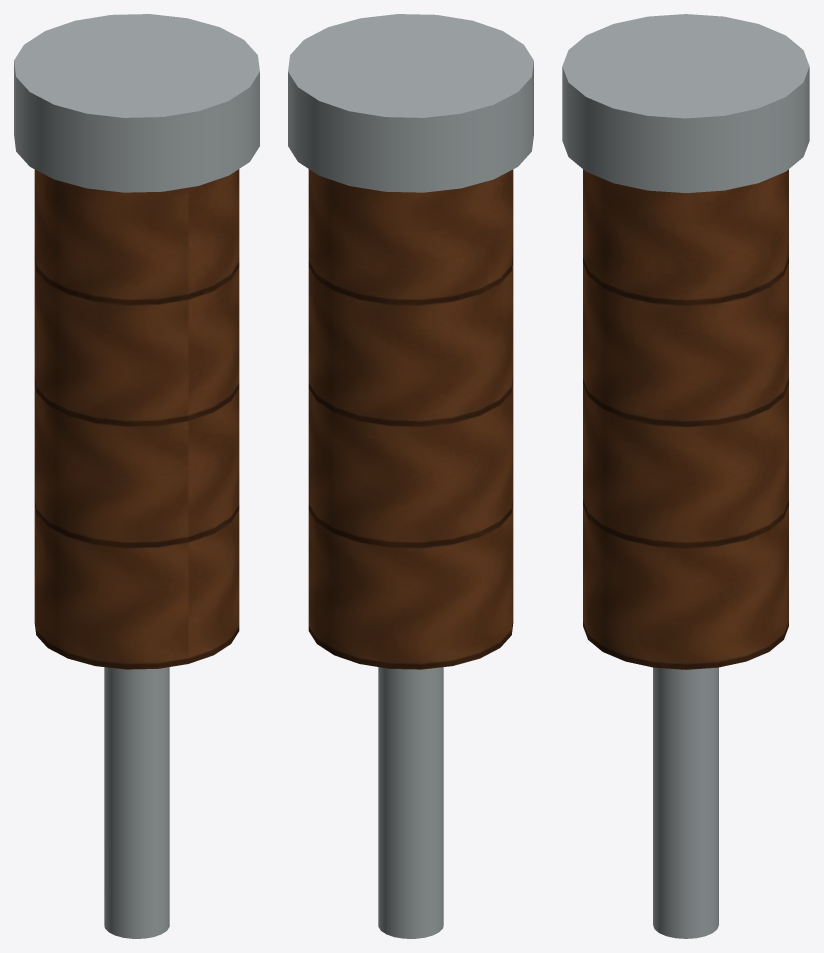
File: primitive-crafting-workshop-leather-punch-654d43c6__21562.glb
3 renders of one model, left to right at view 1: azimuth 30°, elevation 25°; view 2: azimuth 150°, elevation 25°; view 3: azimuth 270°, elevation 25°, orthographic.
Parts seen in each view (by area): view 1: leather-punch; view 2: leather-punch; view 3: leather-punch.
Boxes of the visible parts, left/top/right/bottom form: leather-punch: left=14, top=14, right=259, bottom=938; leather-punch: left=288, top=14, right=533, bottom=938; leather-punch: left=562, top=14, right=809, bottom=938.
Bounding box in the file's own units: 0.06 × 0.23 × 0.06.
Materials: 2 (1 with a texture image).
